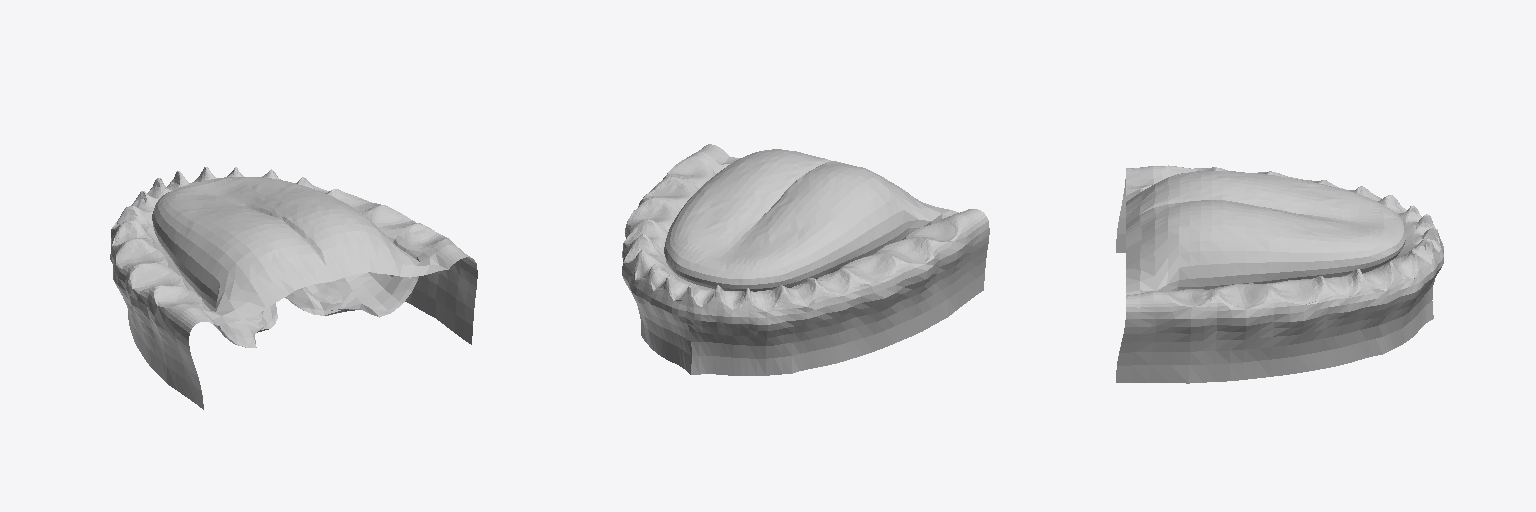
The model's file is lower_gum_offset2.obj.
3 views of the same model, side by side, from view 1: azimuth 30°, elevation 25°; view 2: azimuth 150°, elevation 25°; view 3: azimuth 270°, elevation 25° (orthographic).
Visible parts, largest first — view 1: lower_gum; view 2: lower_gum; view 3: lower_gum.
Part boxes in pixels (x1,y1,x2,y2): lower_gum: (110,167,477,409); lower_gum: (622,144,989,375); lower_gum: (1116,165,1443,383).
Size of the model in its own units: 0.1233 by 0.0506 by 0.1201.